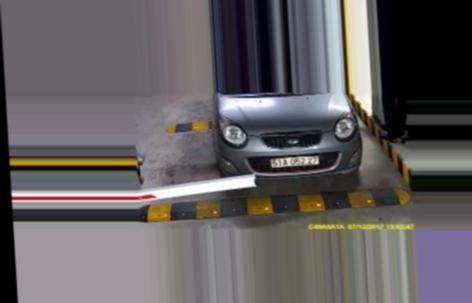License_Plate: (270, 157, 323, 168)
